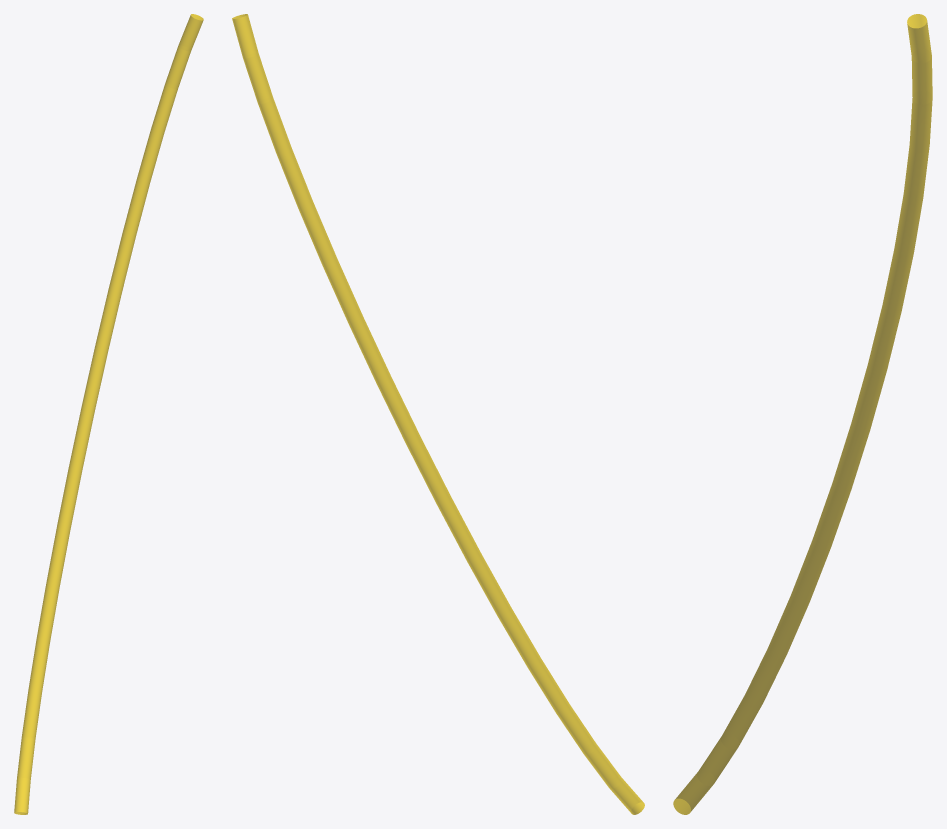
The model's file is Event_17758602_track_31.fbx.
3 renders of one model, left to right at view 1: azimuth 30°, elevation 25°; view 2: azimuth 150°, elevation 25°; view 3: azimuth 270°, elevation 25°, orthographic. The views are drawn at different scales.
Visible parts, largest first — view 1: Model; view 2: Model; view 3: Model.
Boxes of the visible parts, box(x1,y1,x2,y2) form: Model: box(14, 14, 203, 814); Model: box(232, 14, 644, 814); Model: box(673, 14, 932, 814).
Size of the model in its own units: 0.8839 by 2.13 by 0.5136.
